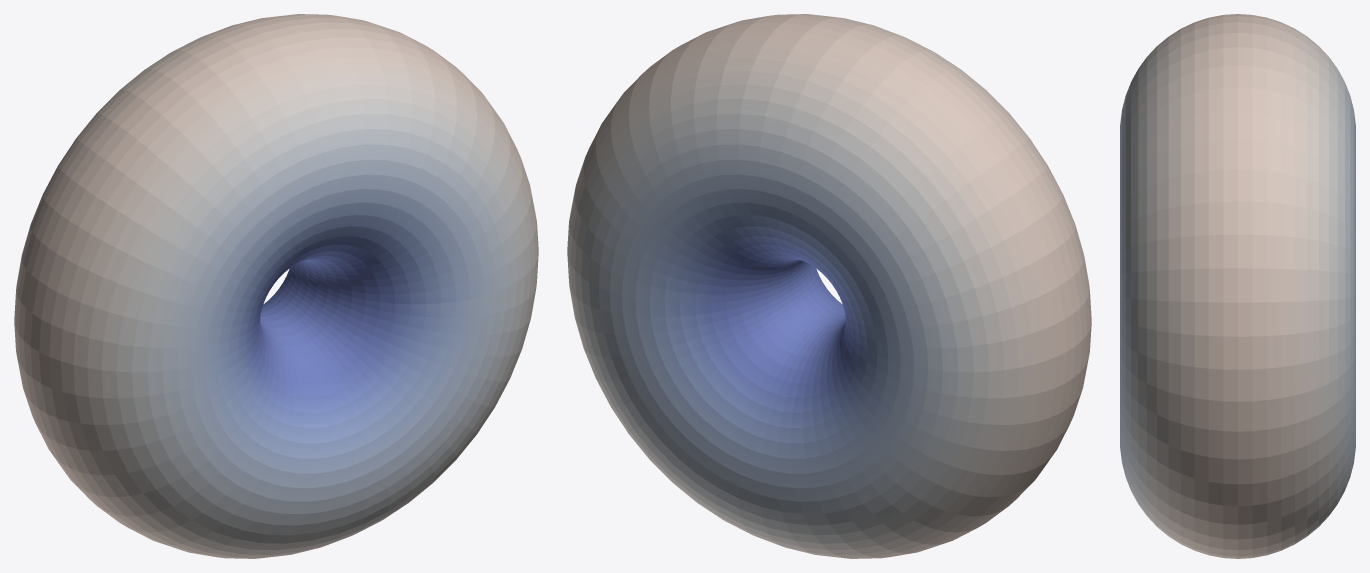
The picture shows the model from 3 angles, left to right: view 1: azimuth 30°, elevation 25°; view 2: azimuth 150°, elevation 25°; view 3: azimuth 270°, elevation 25°; orthographic projection. The views are drawn at different scales.
Visible parts, largest first — view 1: world; view 2: world; view 3: world.
Boxes of the visible parts, x1=… form: world: x1=14, y1=14, x2=538, y2=558; world: x1=567, y1=14, x2=1091, y2=558; world: x1=1120, y1=14, x2=1355, y2=558.
Size of the model in its own units: 20 by 19.96 by 8.65.
